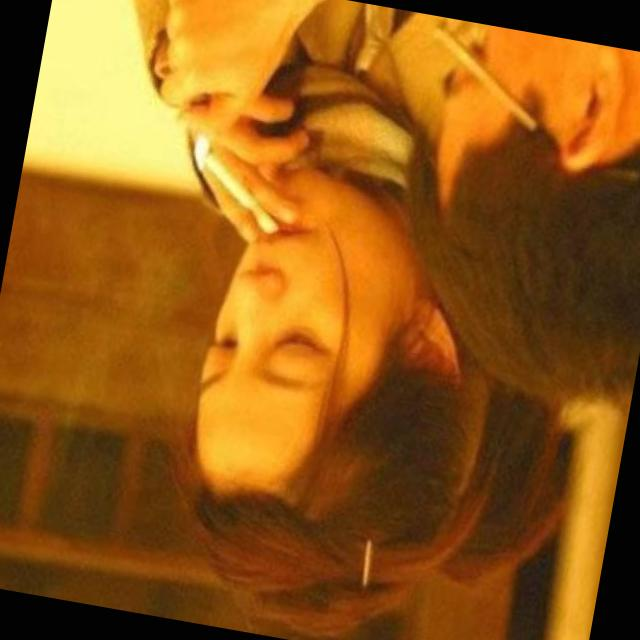smoke: (158, 94, 328, 259)
